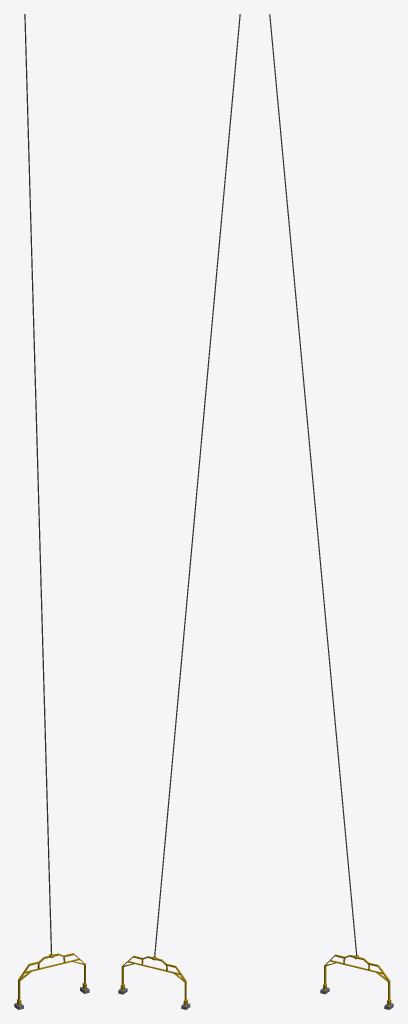
Rendered from Halterung2.fbx.
3 views of the same model, side by side, from view 1: azimuth 30°, elevation 25°; view 2: azimuth 150°, elevation 25°; view 3: azimuth 330°, elevation 25° (orthographic). The views are drawn at different scales.
Visible parts, largest first — view 1: StartHalterung2; view 2: StartHalterung2; view 3: StartHalterung2.
Boxes of the visible parts, x1,y1,x2,y2 form: StartHalterung2: (14, 14, 89, 1009); StartHalterung2: (118, 14, 240, 1009); StartHalterung2: (269, 14, 393, 1009).
Bounding box in the file's own units: 6509 × 67194 × 4052.
